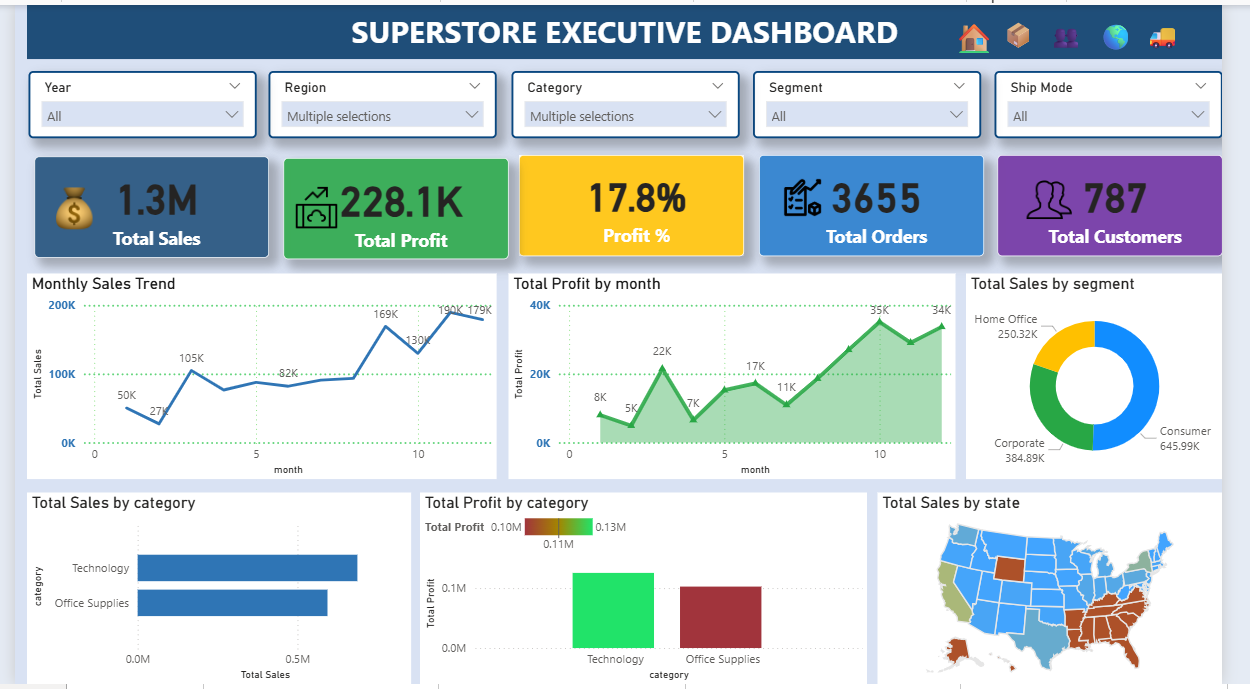

Layout of this report page (visuals, bound fields, positions):
{"tool":"powerbi","page":{"name":"Executive","canvas":[1280,720],"ordinal":0},"visuals":[{"type":"textbox","box":[12.7,0,1267.7,57.3],"z":0},{"type":"actionButton","box":[991,7.9,50.9,47.8],"z":0,"group":"g7"},{"type":"card","fields":{"Values":["Measures (2).Total Orders"]},"box":[789.4,159.1,238.8,107.1],"z":0,"group":"g4"},{"type":"card","fields":{"Values":["Measures (2).Profit %"]},"box":[534.8,159.2,238.8,107.1],"z":0,"group":"g3"},{"type":"card","fields":{"Values":["Measures (2).Total Customers"]},"box":[1041.6,159.7,238.8,107.1],"z":0,"group":"g5"},{"type":"card","fields":{"Values":["Measures (2).Total Sales"]},"box":[20.7,160.9,248.4,107.1],"z":0,"group":"g2"},{"type":"card","fields":{"Values":["Measures (2).Total Profit"]},"box":[285.1,161.7,238.8,107.1],"z":0,"group":"g6"},{"type":"actionButton","box":[1041.9,6.4,50.9,47.8],"z":1000,"group":"g7"},{"type":"slicer","fields":{"Values":["fact_sales.region"]},"box":[268.8,70,241.8,71.6],"z":1000},{"type":"image","box":[30.3,179.8,65,70.9],"z":1000,"group":"g2"},{"type":"actionButton","box":[1092.8,7.9,52.5,44.7],"z":2000,"group":"g7"},{"type":"slicer","fields":{"Values":["dim_date.year"]},"box":[14.3,70,241.8,71.6],"z":2000},{"type":"actionButton","box":[1145.3,7.9,49.3,49.4],"z":3000,"group":"g7"},{"type":"slicer","fields":{"Values":["dim_ship_mode.ship_mode"]},"box":[1038.7,70,241.8,71.6],"z":3000},{"type":"actionButton","box":[1194.6,7.9,65.2,47.8],"z":4000,"group":"g7"},{"type":"slicer","fields":{"Values":["dim_customer.segment"]},"box":[782.6,70,241.8,71.6],"z":4000},{"type":"slicer","fields":{"Values":["dim_product.category"]},"box":[526.5,70,241.8,71.6],"z":5000},{"type":"group","id":"g1","title":"Group 2","box":[20.7,159.1,1259.8,109.8],"z":6000},{"type":"group","id":"g2","title":"Group 1","box":[20.7,160.9,248.4,107.1],"z":6000,"group":"g1"},{"type":"group","id":"g3","title":"Group 1","box":[534.8,159.2,238.8,107.1],"z":7000,"group":"g1"},{"type":"image","box":[284.7,184.5,70,60.4],"z":7000},{"type":"image","box":[1059.6,176.6,74.5,58.3],"z":7001,"group":"g5"},{"type":"group","id":"g4","title":"Group 1","box":[789.4,159.1,238.8,107.1],"z":8000,"group":"g1"},{"type":"lineChart","title":"Monthly Sales Trend","fields":{"Y":["Measures (2).Total Sales"],"Category":["dim_date.month"]},"box":[12.7,284.7,497.9,217.9],"z":8000},{"type":"image","box":[802.2,176.9,66.9,55.1],"z":8001,"group":"g4"},{"type":"group","id":"g5","title":"Group 1","box":[1041.6,159.7,238.8,107.1],"z":9000,"group":"g1"},{"type":"areaChart","fields":{"Category":["dim_date.month"],"Y":["Measures (2).Total Profit"]},"box":[523.3,284.7,474,217.9],"z":9000},{"type":"clusteredBarChart","fields":{"Category":["dim_product.category"],"Y":["Measures (2).Total Sales"]},"box":[12.7,516.9,407.2,203.6],"z":10000},{"type":"group","id":"g6","title":"Group 1","box":[285.1,161.7,238.8,107.1],"z":11000,"group":"g1"},{"type":"clusteredColumnChart","fields":{"Y":["Measures (2).Total Profit"],"Category":["dim_product.category"]},"box":[429.5,516.9,474,203.6],"z":11000},{"type":"donutChart","fields":{"Category":["dim_customer.segment"],"Y":["Measures (2).Total Sales"]},"box":[1008.4,284.7,272,217.9],"z":12000},{"type":"shapeMap","fields":{"Category":["fact_sales.state"],"Value":["Measures (2).Total Sales"]},"box":[914.6,516.9,365.8,203.6],"z":13000},{"type":"group","id":"g7","title":"Group 3","box":[991,6.4,268.8,50.9],"z":14006}]}

Visuals, with their boxes in screenshot pixels (x1, y1, x2, y2), scaled from the page's 1280x720 canvas onto the 1250x689 screenshot:
textbox: locate(12, 0, 1249, 55)
actionButton: locate(968, 8, 1017, 53)
card - Measures (2).Total Orders: locate(771, 152, 1004, 255)
card - Measures (2).Profit %: locate(522, 152, 755, 255)
card - Measures (2).Total Customers: locate(1017, 153, 1249, 255)
card - Measures (2).Total Sales: locate(20, 154, 263, 256)
card - Measures (2).Total Profit: locate(278, 155, 512, 257)
actionButton: locate(1017, 6, 1067, 52)
slicer - fact_sales.region: locate(262, 67, 499, 136)
image: locate(30, 172, 93, 240)
actionButton: locate(1067, 8, 1118, 50)
slicer - dim_date.year: locate(14, 67, 250, 136)
actionButton: locate(1118, 8, 1167, 55)
slicer - dim_ship_mode.ship_mode: locate(1014, 67, 1249, 136)
actionButton: locate(1167, 8, 1230, 53)
slicer - dim_customer.segment: locate(764, 67, 1000, 136)
slicer - dim_product.category: locate(514, 67, 750, 136)
"Group 2" group: locate(20, 152, 1249, 257)
"Group 1" group: locate(20, 154, 263, 256)
"Group 1" group: locate(522, 152, 755, 255)
image: locate(278, 177, 346, 234)
image: locate(1035, 169, 1108, 225)
"Group 1" group: locate(771, 152, 1004, 255)
"Monthly Sales Trend" lineChart: locate(12, 272, 499, 481)
image: locate(783, 169, 849, 222)
"Group 1" group: locate(1017, 153, 1249, 255)
areaChart - dim_date.month x Measures (2).Total Profit: locate(511, 272, 974, 481)
clusteredBarChart - dim_product.category x Measures (2).Total Sales: locate(12, 495, 410, 688)
"Group 1" group: locate(278, 155, 512, 257)
clusteredColumnChart - Measures (2).Total Profit x dim_product.category: locate(419, 495, 882, 688)
donutChart - dim_customer.segment x Measures (2).Total Sales: locate(985, 272, 1249, 481)
shapeMap - fact_sales.state x Measures (2).Total Sales: locate(893, 495, 1249, 688)
"Group 3" group: locate(968, 6, 1230, 55)
